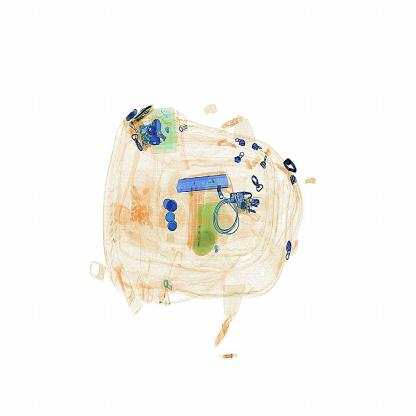pliers: (178, 171, 243, 203)
